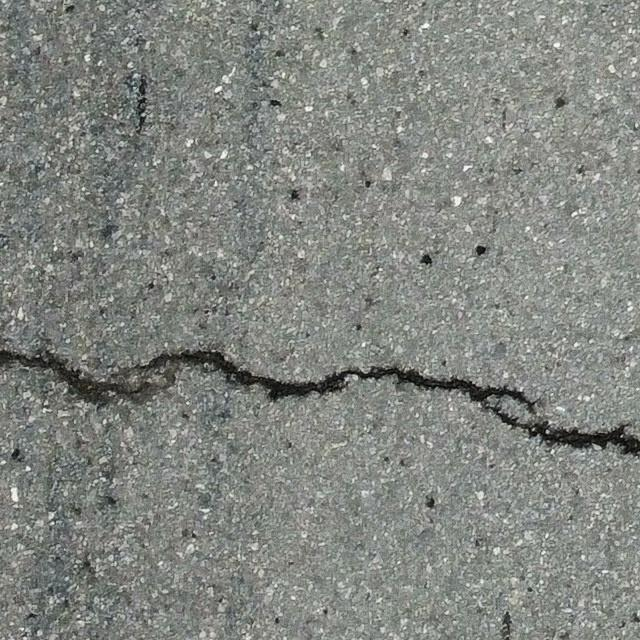TransverseCrack: (1, 350, 640, 458)
